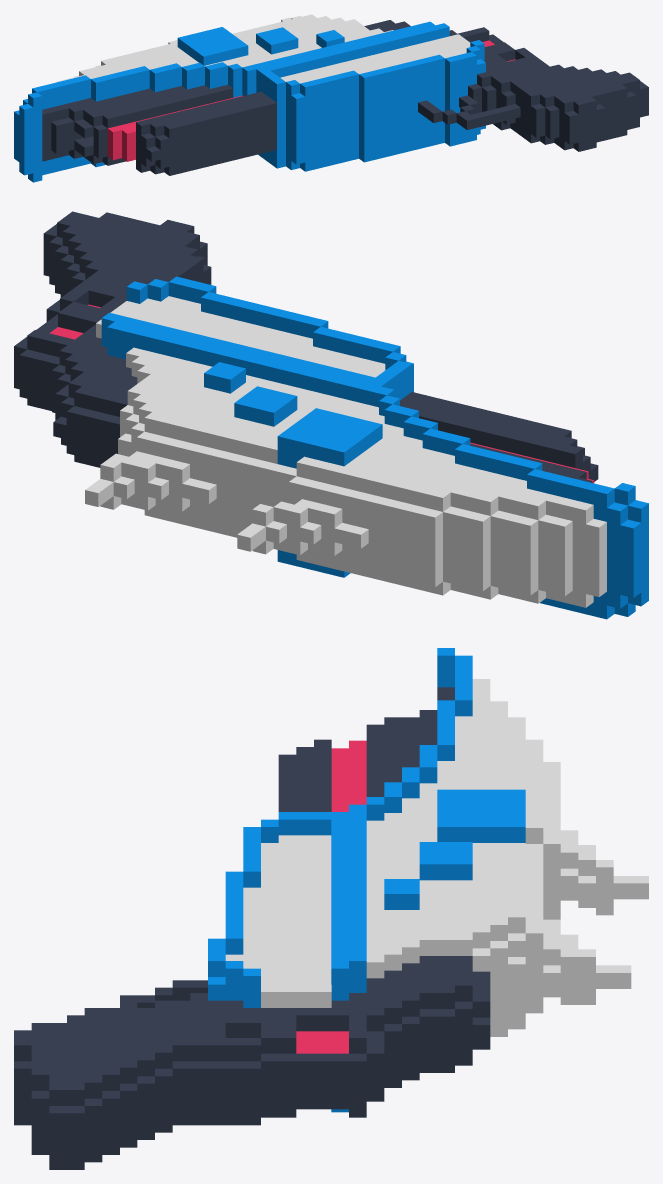
File: gun_5.obj
3 views of the same model, one above another, from view 1: azimuth 30°, elevation 25°; view 2: azimuth 150°, elevation 25°; view 3: azimuth 270°, elevation 25° (orthographic). The views are drawn at different scales.
Size of the model in its own units: 5.7 by 0.9 by 3.6.
Materials: 1 (1 with a texture image).
